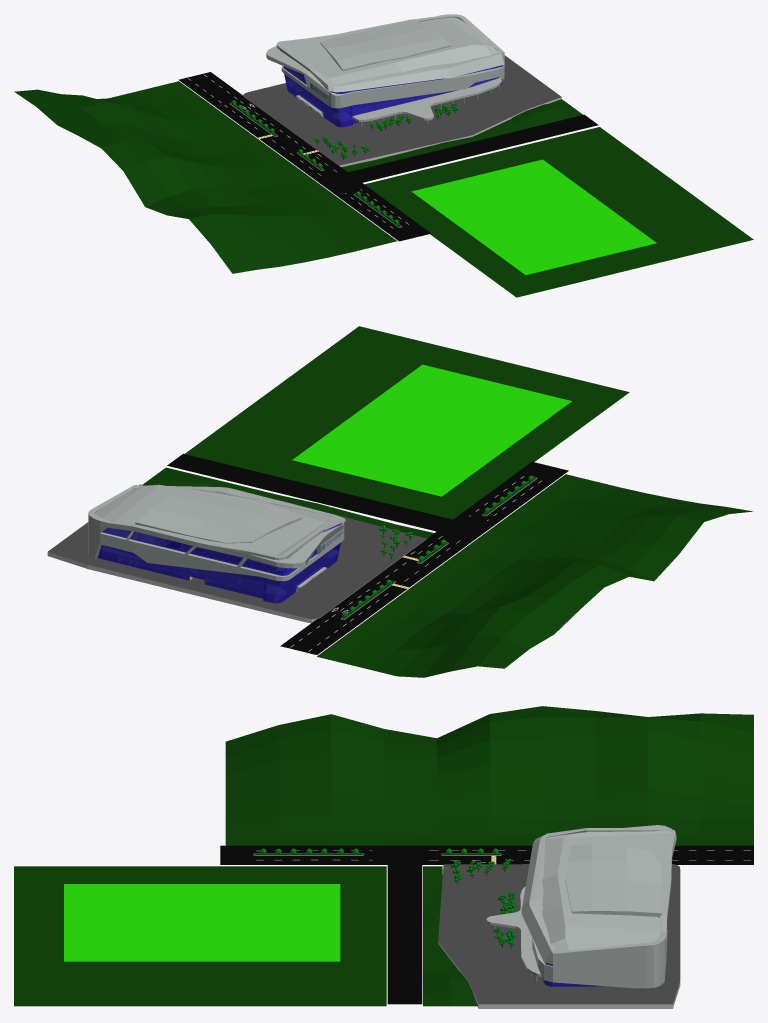
File: gym1_2_0.gltf
The picture shows the model from 3 angles, top to bottom: view 1: azimuth 30°, elevation 25°; view 2: azimuth 150°, elevation 25°; view 3: azimuth 270°, elevation 25°; orthographic projection. The views are drawn at different scales.
Parts seen in each view (by area): view 1: mountain, base, load, roof_cover, roof, 1f_glass, 2f_floor, tree; view 2: mountain, load, base, roof_cover, roof, 1f_glass, 2f_glass; view 3: mountain, base, roof_cover, load, roof, 2f_floor, tree.
Part boxes in pixels (x1=…): mountain: x1=14, y1=81, x2=753, y2=297; base: x1=243, y1=55, x2=561, y2=167; load: x1=178, y1=72, x2=598, y2=241; roof_cover: x1=280, y1=17, x2=497, y2=84; roof: x1=266, y1=14, x2=504, y2=108; 1f_glass: x1=284, y1=74, x2=501, y2=127; 2f_floor: x1=352, y1=78, x2=501, y2=121; tree: x1=314, y1=103, x2=458, y2=159; mountain: x1=142, y1=326, x2=753, y2=677; load: x1=167, y1=453, x2=568, y2=654; base: x1=47, y1=484, x2=426, y2=623; roof_cover: x1=95, y1=484, x2=334, y2=555; roof: x1=88, y1=485, x2=345, y2=581; 1f_glass: x1=97, y1=542, x2=340, y2=603; 2f_glass: x1=102, y1=523, x2=342, y2=575; mountain: x1=14, y1=706, x2=753, y2=1006; base: x1=438, y1=864, x2=680, y2=1008; roof_cover: x1=540, y1=830, x2=672, y2=951; load: x1=220, y1=845, x2=753, y2=1004; roof: x1=521, y1=825, x2=676, y2=988; 2f_floor: x1=486, y1=886, x2=542, y2=976; tree: x1=451, y1=858, x2=515, y2=948.
Size of the model in its own units: 241 by 26.1 by 294.
Materials: 26 (8 with a texture image).
